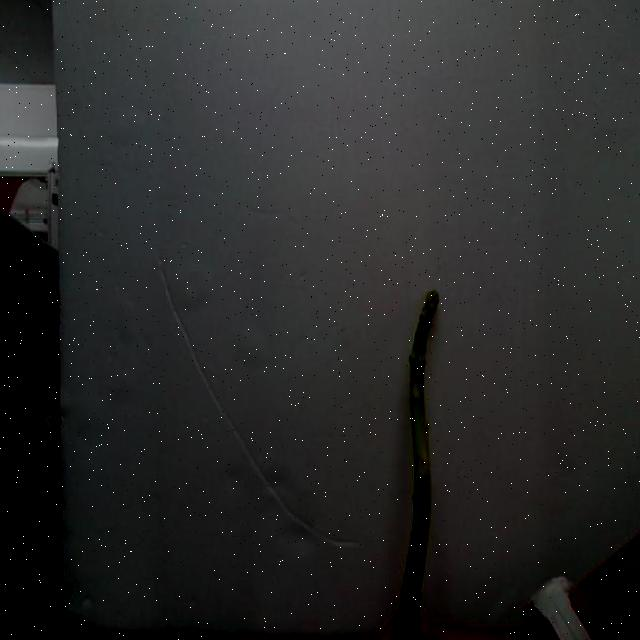aspargus: (387, 292, 440, 640)
